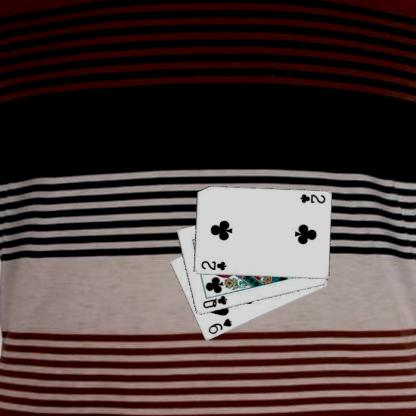2C: (199, 258, 227, 272), (297, 192, 326, 204)
9S: (206, 316, 233, 335)
QC: (200, 293, 228, 310)
